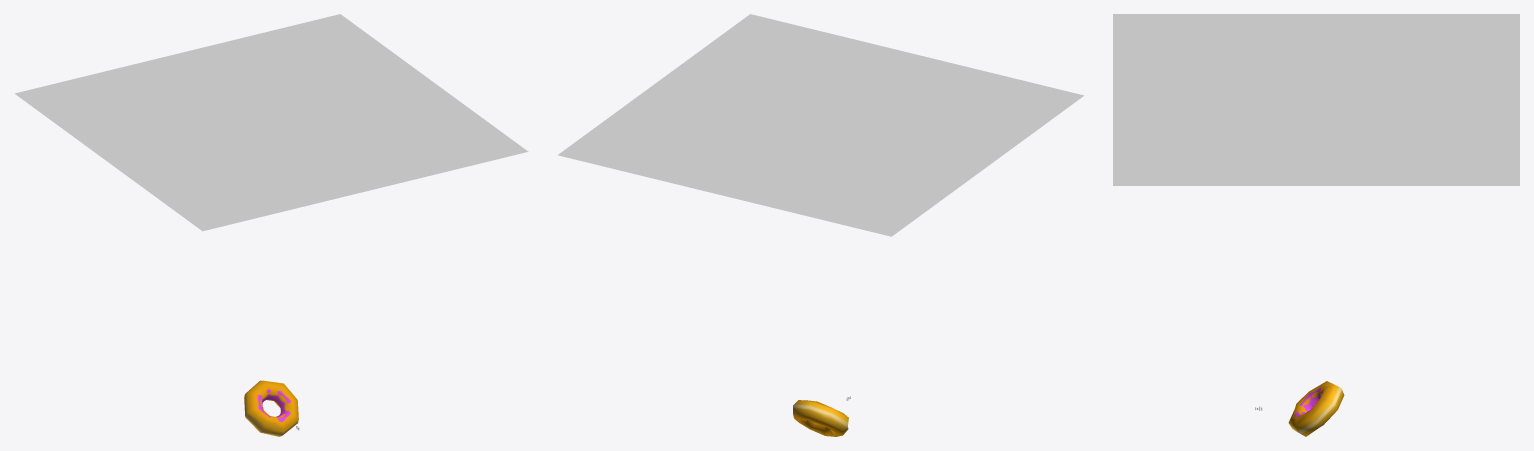
Rendered from donut.glb.
3 renders of one model, left to right at view 1: azimuth 30°, elevation 25°; view 2: azimuth 150°, elevation 25°; view 3: azimuth 270°, elevation 25°, orthographic. The views are drawn at different scales.
Parts seen in each view (by area): view 1: particles, body; view 2: particles, body; view 3: particles, body.
Boxes of the visible parts, box(x1,y1,x2,y2) form: particles: box(14, 14, 528, 231); body: box(244, 380, 298, 436); particles: box(558, 14, 1084, 236); body: box(793, 400, 848, 436); particles: box(1113, 14, 1519, 185); body: box(1288, 381, 1344, 436).
Size of what is drawn, in the model's own units: 10 by 9.04 by 10.
Materials: 3 (1 with a texture image).
